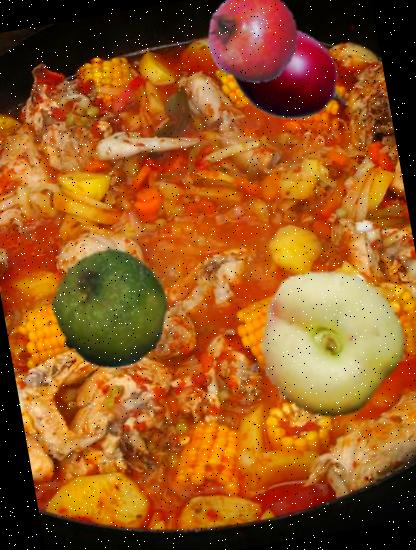Limes: (41, 240, 179, 378)
Peach: (242, 256, 414, 429)
Pomegranate: (199, 0, 307, 90)
Tamarillo: (218, 2, 361, 144)
